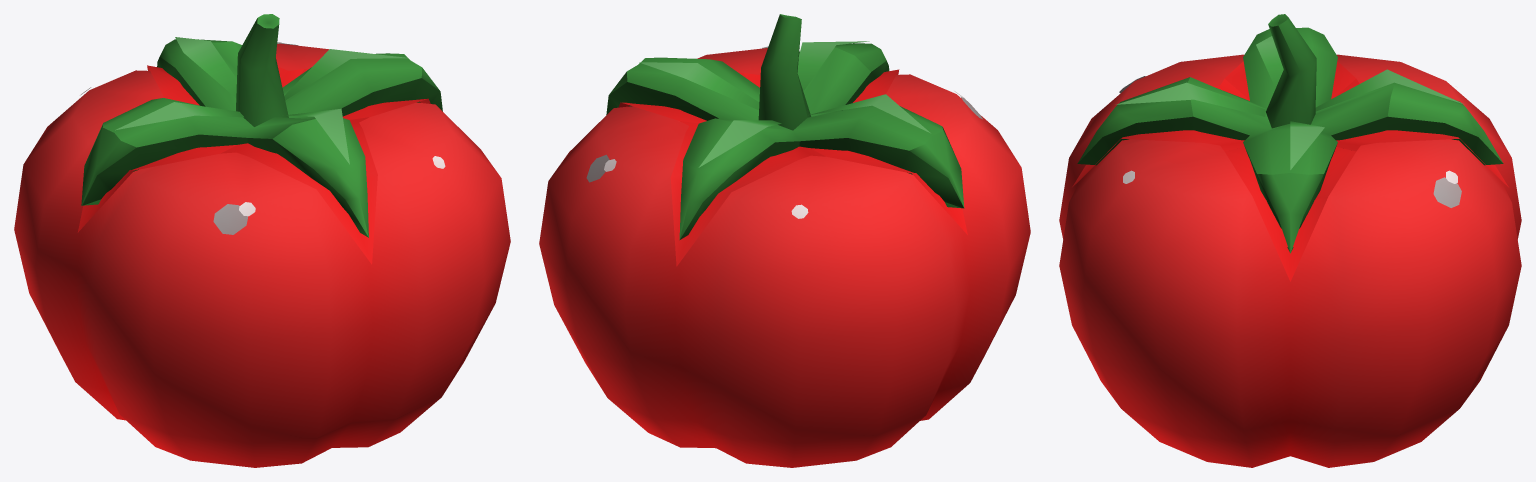
The model's file is Tomato.fbx.
3 renders of one model, left to right at view 1: azimuth 30°, elevation 25°; view 2: azimuth 150°, elevation 25°; view 3: azimuth 270°, elevation 25°, orthographic.
Visible parts, largest first — view 1: Tomato; view 2: Tomato; view 3: Tomato.
Boxes of the visible parts, x1=… form: Tomato: x1=14, y1=14, x2=510, y2=467; Tomato: x1=539, y1=14, x2=1030, y2=467; Tomato: x1=1059, y1=14, x2=1521, y2=467.
Bounding box in the file's own units: 2.34 × 2.26 × 2.34.
